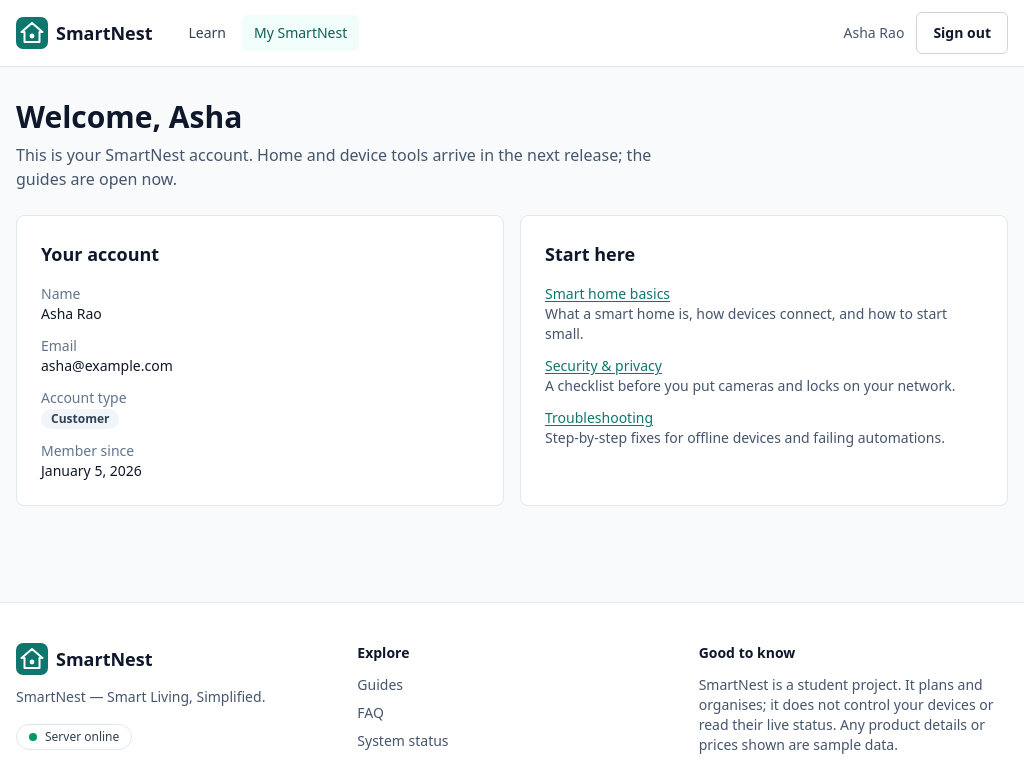
Test: persistent sessions › signs out: revokes on the server, clears the token and returns home
The width and height of the screenshot is (1024, 768).
Check: the heading "Welcome, Asha" is shown, box [16, 96, 242, 137]
Click the button "Sign out". click: point(962, 33)
box: [916, 12, 1008, 54]
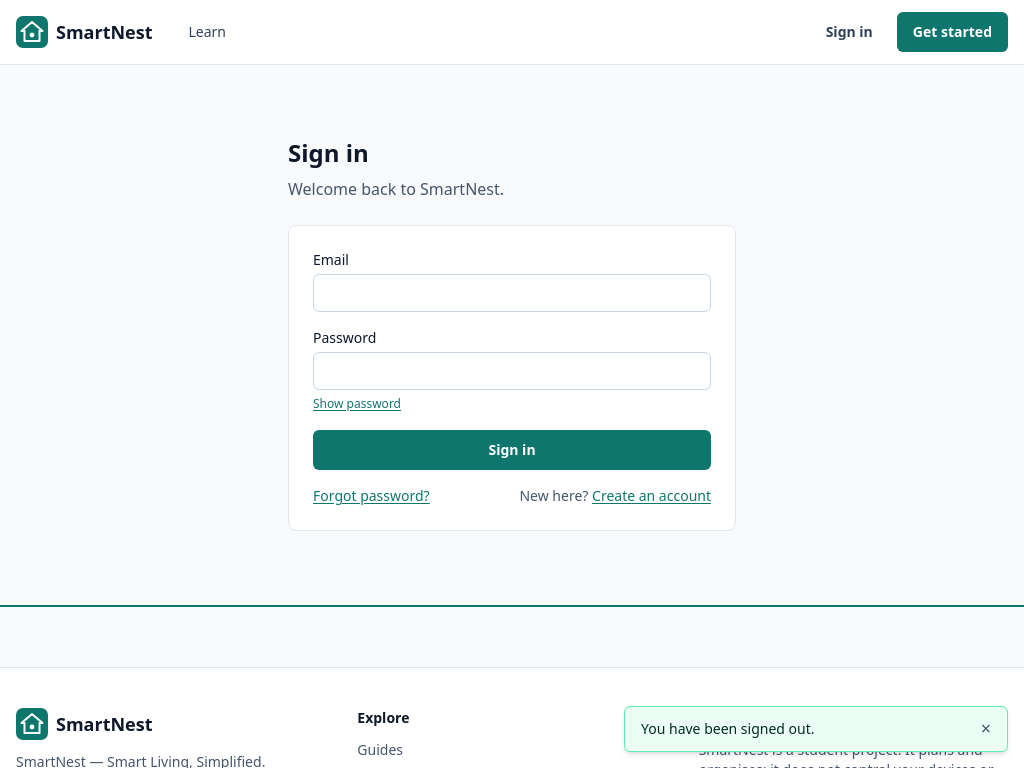
Check: the text "You have been signed out." is shown, box [641, 719, 814, 738]
Check: the link "Get started" is shown, box [897, 12, 1008, 52]
